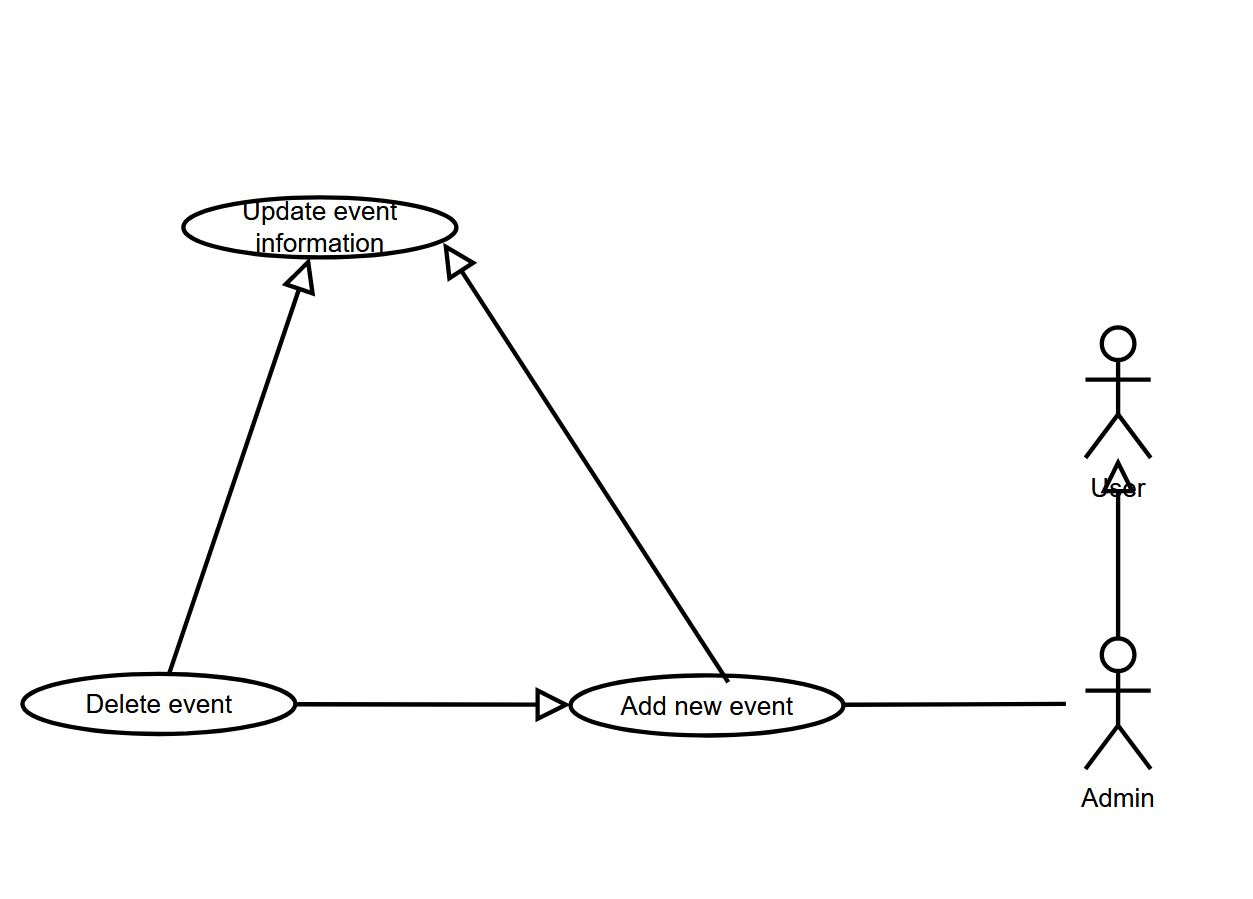actor: (1078, 638, 1160, 773), (1084, 325, 1157, 459)
association: (844, 684, 1065, 719)
generalization: (443, 243, 723, 677), (166, 257, 318, 672), (297, 683, 568, 722), (1102, 457, 1133, 636)
text: (240, 202, 404, 250), (618, 689, 802, 724), (80, 684, 244, 718), (1077, 784, 1159, 811), (1090, 473, 1150, 499)
use_case: (179, 192, 457, 262), (568, 672, 845, 740), (19, 671, 296, 738)
